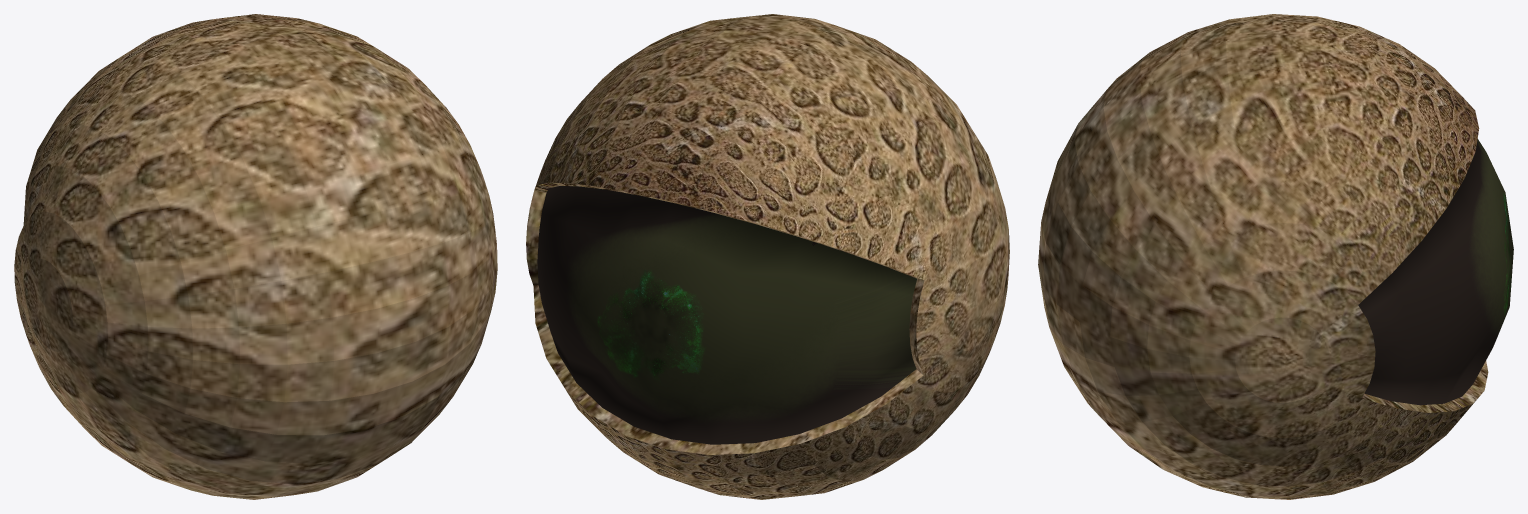
The model's file is mush-eye.fbx.
3 views of the same model, side by side, from view 1: azimuth 30°, elevation 25°; view 2: azimuth 150°, elevation 25°; view 3: azimuth 270°, elevation 25° (orthographic).
Visible parts, largest first — view 1: y.004; view 2: y.004; view 3: y.004.
Boxes of the visible parts, x1,y1,x2,y2 form: y.004: (14,14,497,499); y.004: (526,14,1009,499); y.004: (1038,14,1513,499).
Bounding box in the file's own units: 210 × 210 × 206.
Materials: 2 (2 with a texture image).
